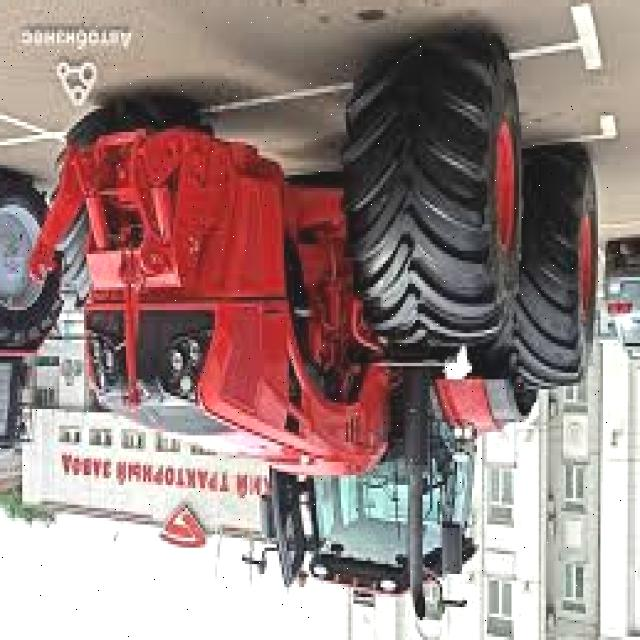Tratores - v5 YOLO V8L 2024-11-13: (64, 33, 600, 598), (0, 176, 60, 450)
